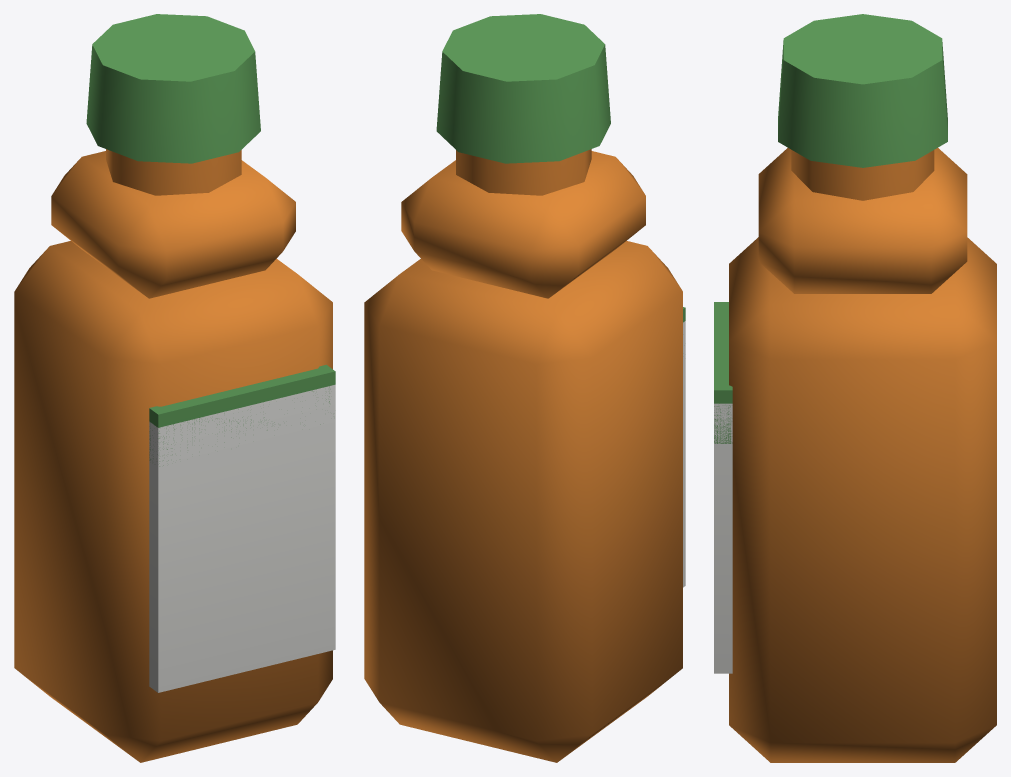
Rendered from Bottle_Juice_01.glb.
The picture shows the model from 3 angles, left to right: view 1: azimuth 30°, elevation 25°; view 2: azimuth 150°, elevation 25°; view 3: azimuth 270°, elevation 25°; orthographic projection.
Visible parts, largest first — view 1: SM_Bottle_Juice_01; view 2: SM_Bottle_Juice_01; view 3: SM_Bottle_Juice_01.
Part boxes in pixels (x1=…): SM_Bottle_Juice_01: x1=14, y1=14, x2=335, y2=762; SM_Bottle_Juice_01: x1=364, y1=14, x2=685, y2=762; SM_Bottle_Juice_01: x1=714, y1=14, x2=996, y2=762.
Size of the model in its own units: 0.09 by 0.25 by 0.095.
Materials: 1 (1 with a texture image).
